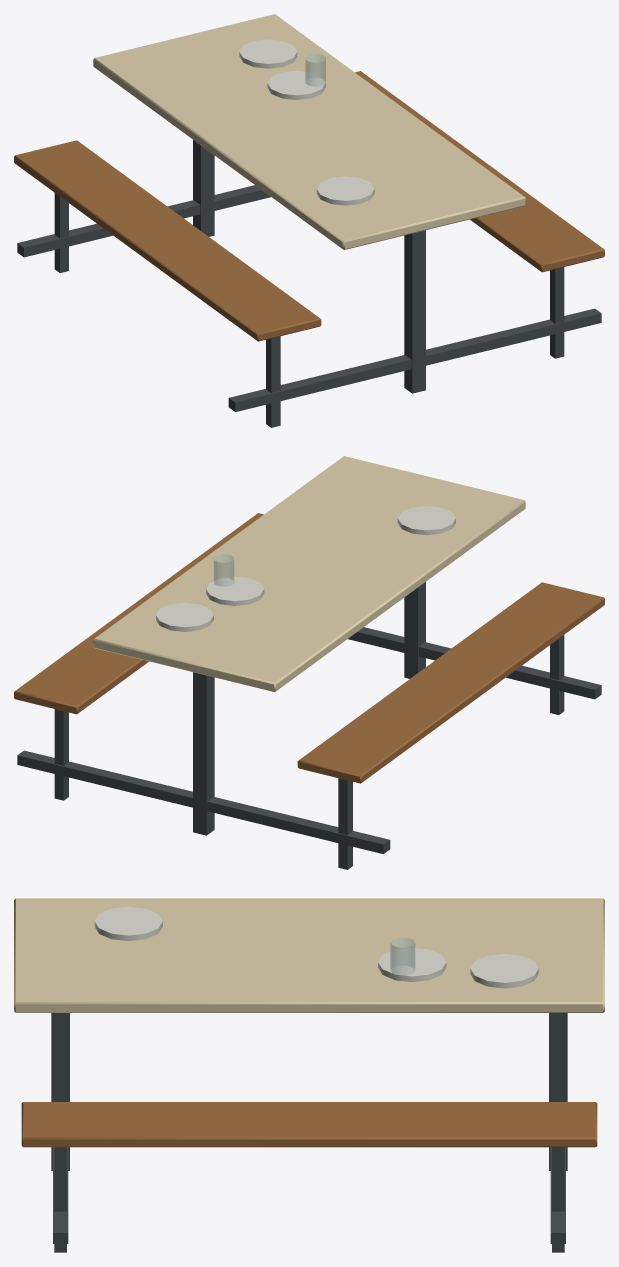
The model's file is canteen_table.glb.
3 renders of one model, top to bottom at view 1: azimuth 30°, elevation 25°; view 2: azimuth 150°, elevation 25°; view 3: azimuth 270°, elevation 25°, orthographic. The views are drawn at different scales.
Parts seen in each view (by area): view 1: CanteenTable; view 2: CanteenTable; view 3: CanteenTable.
Boxes of the visible parts, box(x1,y1,x2,y2) form: CanteenTable: box(14, 14, 604, 427); CanteenTable: box(14, 456, 604, 869); CanteenTable: box(14, 898, 604, 1252).
Bounding box in the file's own units: 1.6 × 0.895 × 1.9.
